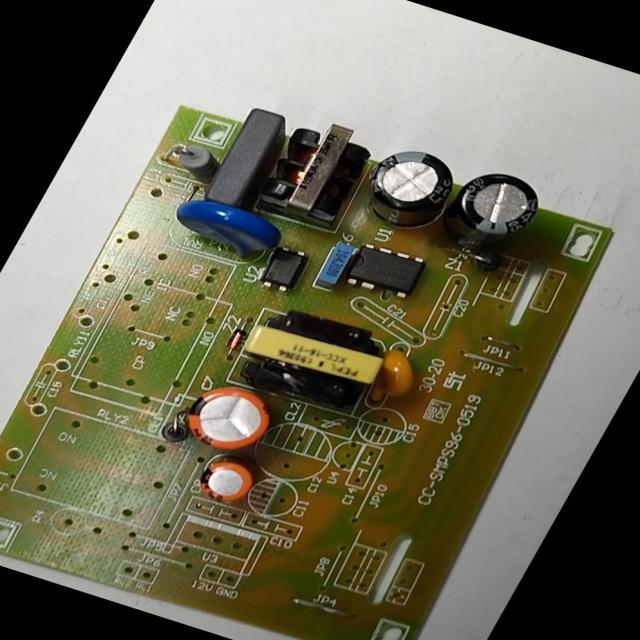Cap1: (174, 375, 282, 458)
Cap2: (191, 452, 262, 507)
Cap3: (348, 139, 467, 237)
Cap4: (432, 164, 550, 262)
MOSFET: (336, 238, 430, 304)
Mov: (165, 190, 289, 264)
Resistor: (162, 139, 230, 187)
Transformer: (223, 298, 402, 422), (250, 113, 382, 225)
